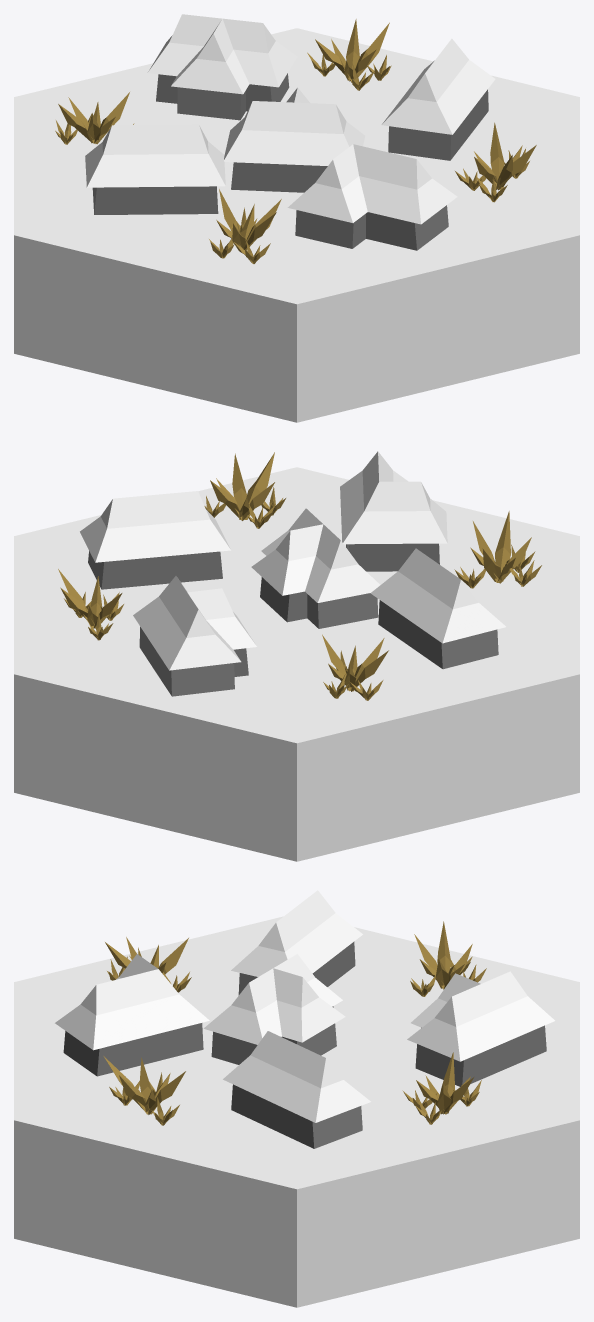
Rendered from Casas_Nieve_01.fbx.
3 renders of one model, top to bottom at view 1: azimuth 30°, elevation 25°; view 2: azimuth 150°, elevation 25°; view 3: azimuth 270°, elevation 25°, orthographic.
Parts seen in each view (by area): view 1: Casas_Nieve_01; view 2: Casas_Nieve_01; view 3: Casas_Nieve_01.
Part boxes in pixels (<box>): Casas_Nieve_01: <box>14,14,579,422</box>; Casas_Nieve_01: <box>14,451,579,861</box>; Casas_Nieve_01: <box>14,890,579,1307</box>.
Size of the model in its own units: 200 by 65.63 by 173.
